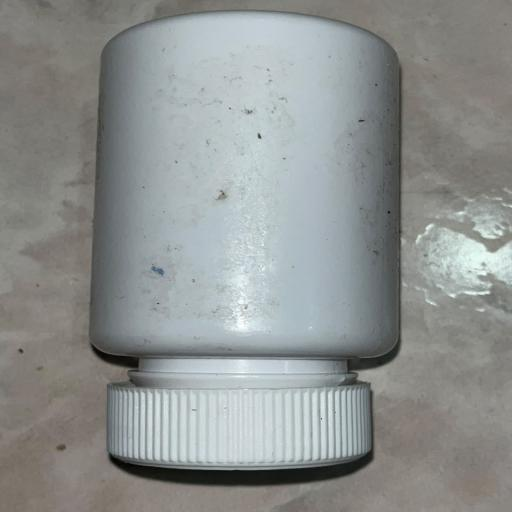HDPE: (52, 2, 457, 501)
